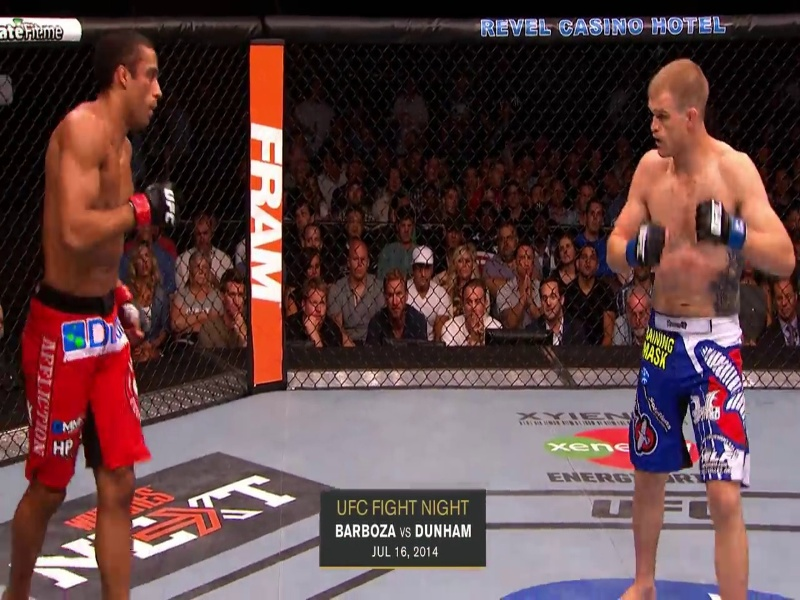fighter: (584, 54, 800, 595), (4, 28, 180, 593)
